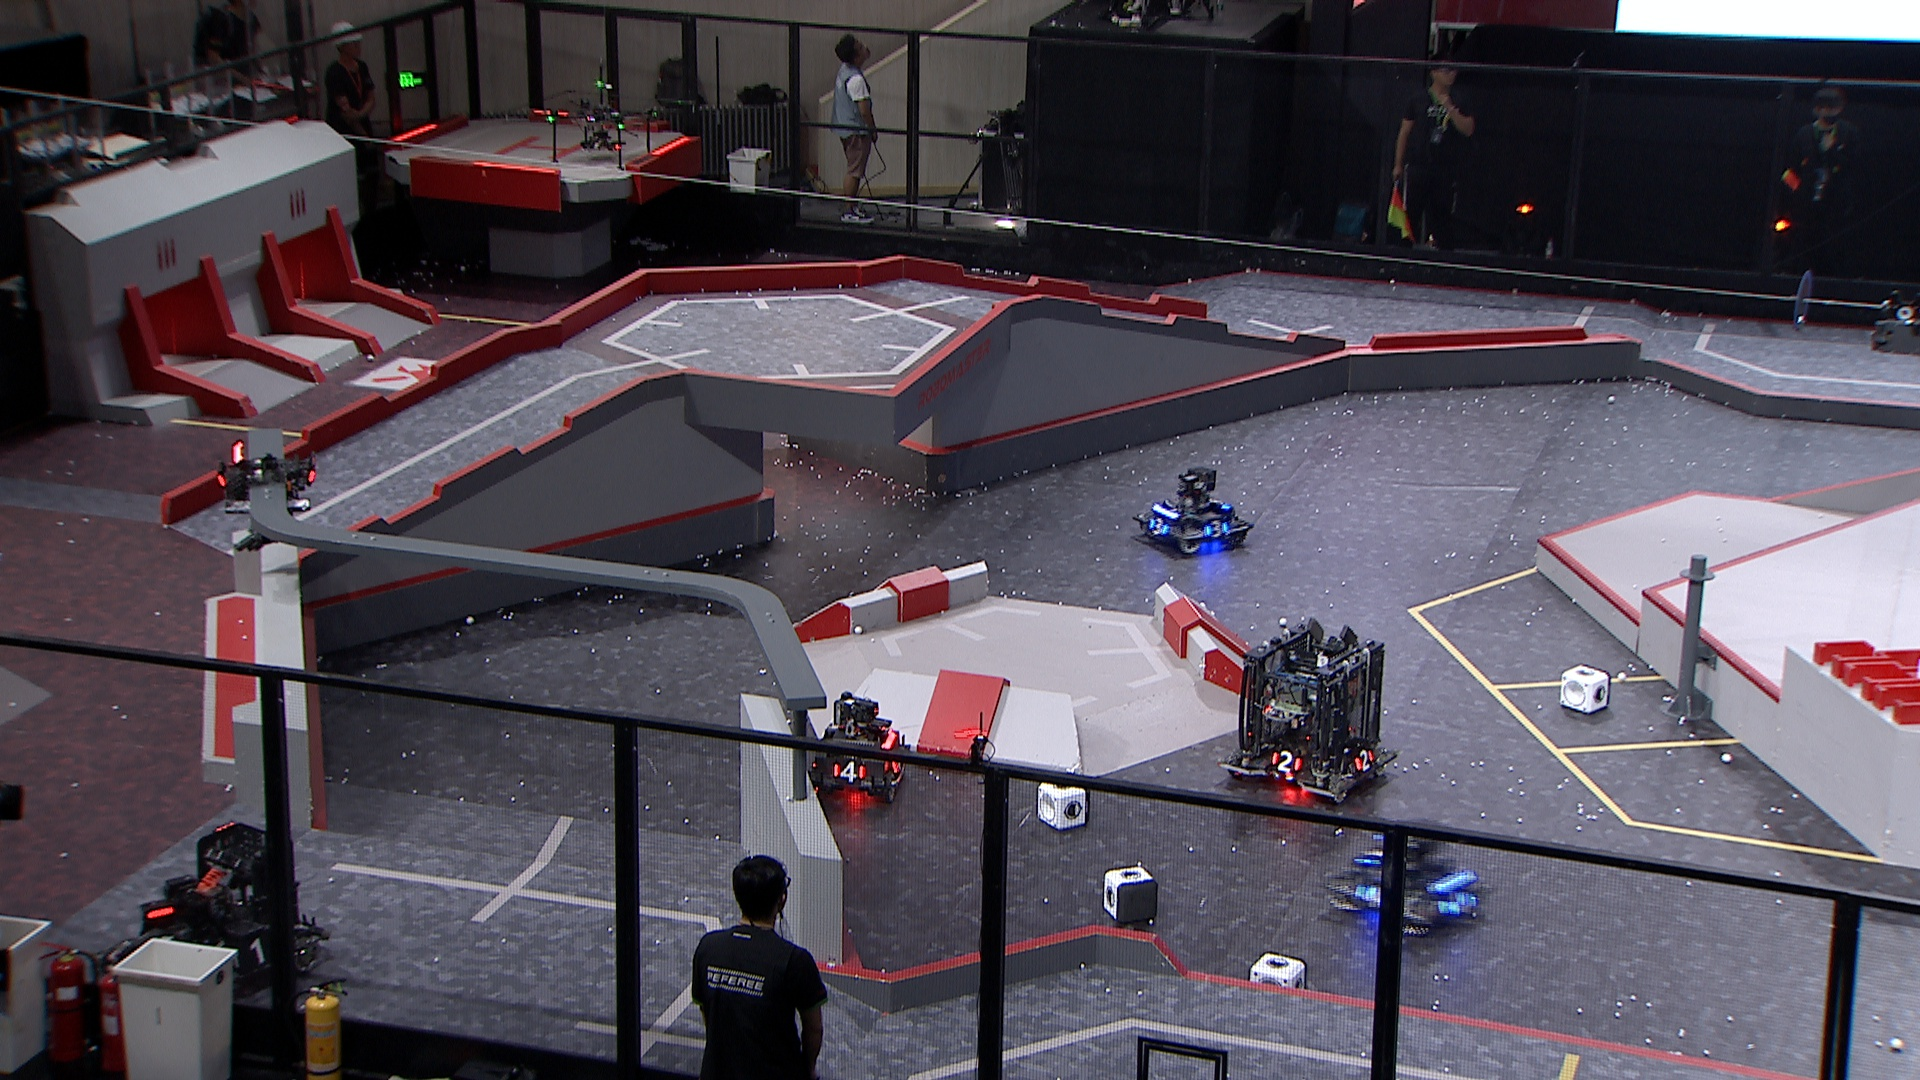armor: (231, 935, 272, 968), (1437, 891, 1480, 920), (1269, 749, 1305, 777), (1353, 884, 1385, 913), (832, 760, 868, 785), (1353, 847, 1385, 870), (1353, 749, 1375, 774), (1205, 520, 1230, 541), (1149, 518, 1172, 537)
car: (102, 818, 334, 1001), (1220, 618, 1399, 802), (1325, 820, 1485, 938), (803, 694, 910, 808), (1131, 469, 1253, 556)
watcher: (218, 438, 318, 553)
